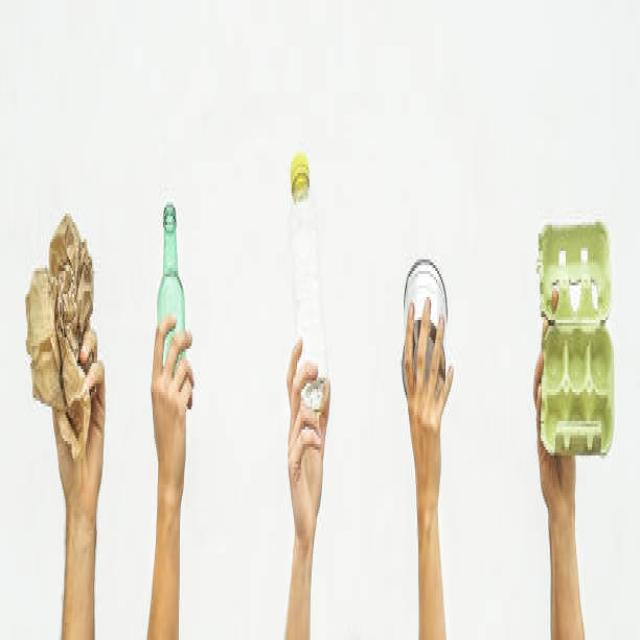cardboard: (533, 202, 616, 476)
glass: (288, 159, 330, 389), (157, 193, 189, 352)
metal: (398, 254, 444, 366)
paper: (22, 237, 96, 432)
